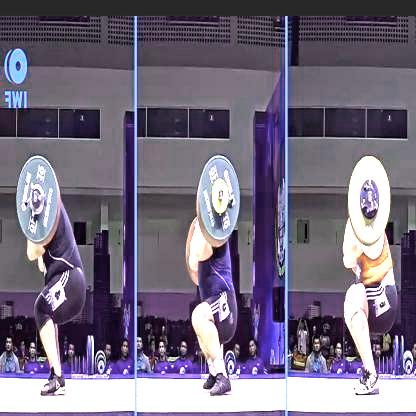Barbell: (216, 187, 223, 203), (29, 190, 36, 206), (365, 190, 373, 203)
